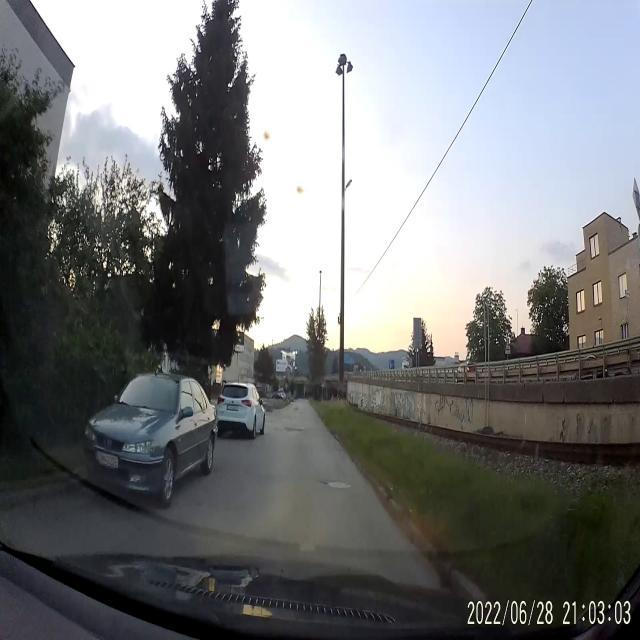Manhole: (326, 480, 352, 492)
Pothole: (278, 422, 313, 436)
